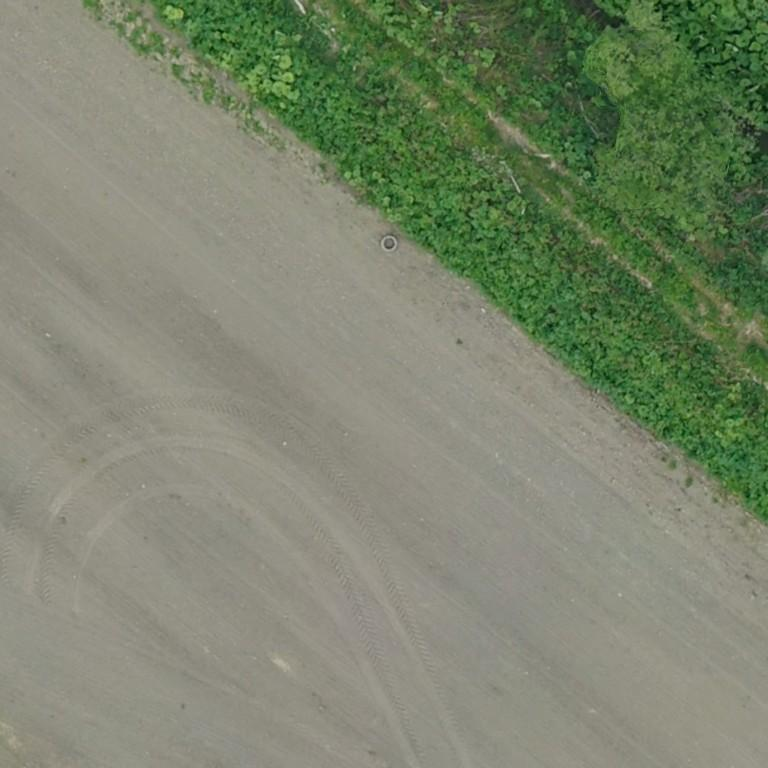hogweed: (170, 0, 767, 519), (577, 198, 686, 294), (718, 263, 767, 308)
